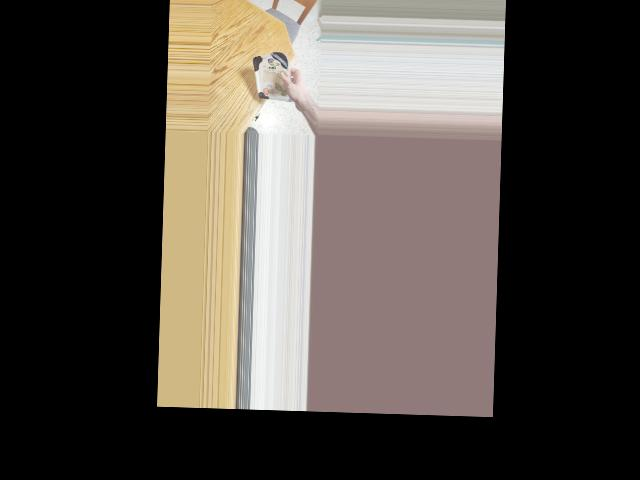cheese: (251, 50, 297, 103)
